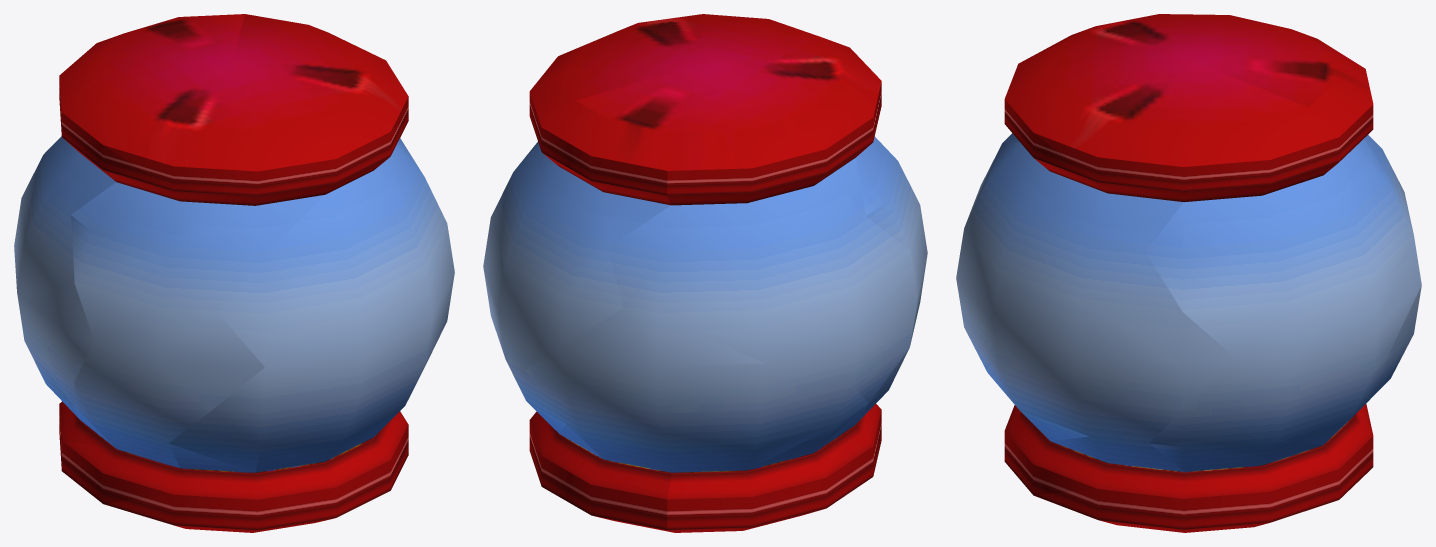
Rendered from Item Capsule.obj.
The picture shows the model from 3 angles, left to right: view 1: azimuth 30°, elevation 25°; view 2: azimuth 150°, elevation 25°; view 3: azimuth 270°, elevation 25°; orthographic projection.
Parts seen in each view (by area): view 1: Mesh_0478; view 2: Mesh_0478; view 3: Mesh_0478.
Boxes of the visible parts, x1,y1,x2,y2 form: Mesh_0478: (14,14,454,532); Mesh_0478: (483,14,927,532); Mesh_0478: (956,14,1421,532).
Size of the model in its own units: 3.07 by 3.29 by 3.25.
Materials: 3 (3 with a texture image).
